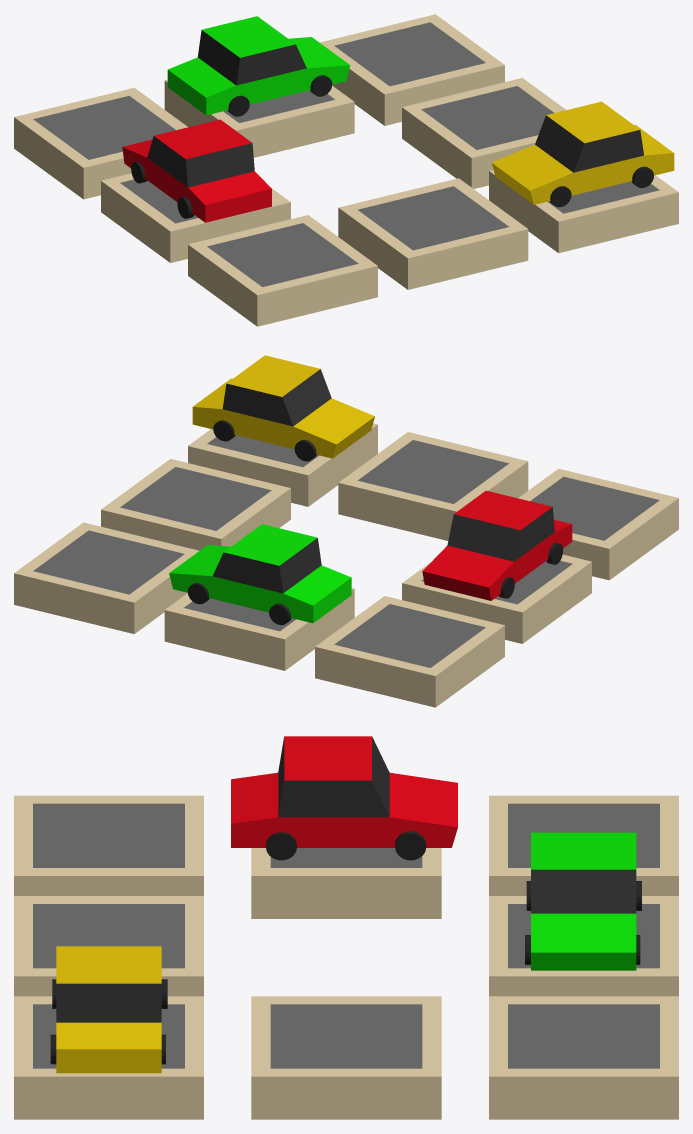
Rendered from EkhayaGo.glb.
3 renders of one model, top to bottom at view 1: azimuth 30°, elevation 25°; view 2: azimuth 150°, elevation 25°; view 3: azimuth 270°, elevation 25°, orthographic. The views are drawn at different scales.
Visible parts, largest first — view 1: Tile1, Tile2, Tile5, Car3, Car, Tile7, Tile4, Car2, Tile3, Tile8, Tile6; view 2: Tile7, Tile5, Tile2, Tile4, Car3, Car, Car2, Tile1, Tile6, Tile8, Tile3; view 3: Tile4, Tile5, Car2, Tile1, Car, Tile3, Car3, Tile2, Tile8, Tile7, Tile6.
Part boxes in pixels (left/top/right/bottom): Tile1: left=188, top=215, right=377, bottom=326; Tile2: left=338, top=178, right=528, bottom=289; Tile5: left=319, top=14, right=504, bottom=125; Car3: left=491, top=101, right=674, bottom=207; Car: left=167, top=16, right=350, bottom=116; Tile7: left=14, top=87, right=187, bottom=199; Tile4: left=402, top=78, right=566, bottom=188; Car2: left=122, top=119, right=271, bottom=222; Tile3: left=489, top=170, right=678, bottom=253; Tile8: left=101, top=173, right=290, bottom=262; Tile6: left=164, top=79, right=354, bottom=157; Tile7: left=315, top=596, right=504, bottom=707; Tile5: left=14, top=522, right=199, bottom=633; Tile2: left=338, top=432, right=528, bottom=540; Tile4: left=101, top=459, right=290, bottom=550; Car3: left=192, top=355, right=374, bottom=461; Car: left=169, top=524, right=351, bottom=625; Car2: left=422, top=490, right=572, bottom=600; Tile1: left=518, top=468, right=678, bottom=580; Tile6: left=164, top=588, right=354, bottom=670; Tile8: left=402, top=554, right=591, bottom=643; Tile3: left=188, top=423, right=377, bottom=506; Tile4: left=251, top=996, right=441, bottom=1119; Tile5: left=489, top=996, right=678, bottom=1119; Car2: left=231, top=736, right=457, bottom=860; Tile1: left=14, top=795, right=203, bottom=895; Car: left=525, top=832, right=641, bottom=970; Tile3: left=14, top=996, right=203, bottom=1119; Car3: left=50, top=946, right=167, bottom=1073; Tile2: left=14, top=896, right=203, bottom=996; Tile8: left=251, top=848, right=441, bottom=918; Tile7: left=489, top=795, right=678, bottom=895; Tile6: left=489, top=896, right=678, bottom=996.
Bounding box in the file's own units: 11.49 × 2.24 × 11.2.
